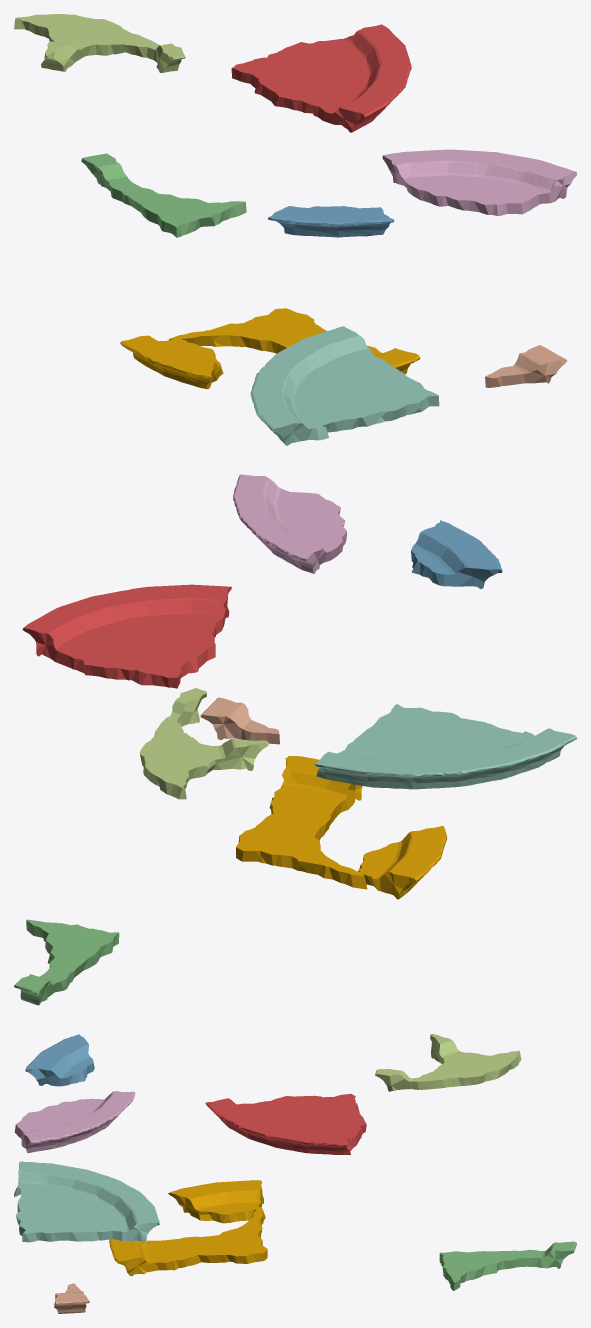
Rendered from fractured_75_8pcs_transformed.glb.
3 renders of one model, top to bottom at view 1: azimuth 30°, elevation 25°; view 2: azimuth 150°, elevation 25°; view 3: azimuth 270°, elevation 25°, orthographic. The views are drawn at different scales.
Visible parts, largest first — view 1: piece_4.obj, piece_1.obj, piece_6.obj, piece_0.obj, piece_5.obj, piece_3.obj, piece_2.obj, piece_7.obj; view 2: piece_1.obj, piece_4.obj, piece_0.obj, piece_6.obj, piece_5.obj, piece_3.obj, piece_2.obj, piece_7.obj; view 3: piece_4.obj, piece_0.obj, piece_1.obj, piece_6.obj, piece_5.obj, piece_3.obj, piece_2.obj, piece_7.obj.
Part boxes in pixels (bbox=[...]): piece_4.obj: bbox=[250, 326, 439, 445]; piece_1.obj: bbox=[231, 24, 411, 132]; piece_6.obj: bbox=[382, 149, 576, 215]; piece_0.obj: bbox=[120, 308, 420, 389]; piece_5.obj: bbox=[14, 14, 185, 72]; piece_3.obj: bbox=[81, 153, 246, 237]; piece_2.obj: bbox=[268, 206, 394, 237]; piece_7.obj: bbox=[485, 345, 567, 387]; piece_1.obj: bbox=[22, 584, 231, 688]; piece_4.obj: bbox=[314, 704, 576, 789]; piece_0.obj: bbox=[236, 755, 447, 899]; piece_6.obj: bbox=[233, 474, 347, 573]; piece_5.obj: bbox=[139, 688, 268, 799]; piece_3.obj: bbox=[14, 919, 119, 1005]; piece_2.obj: bbox=[411, 520, 502, 589]; piece_7.obj: bbox=[200, 697, 279, 744]; piece_4.obj: bbox=[14, 1161, 159, 1243]; piece_0.obj: bbox=[109, 1180, 267, 1276]; piece_1.obj: bbox=[205, 1093, 366, 1154]; piece_6.obj: bbox=[14, 1091, 135, 1153]; piece_5.obj: bbox=[375, 1034, 521, 1091]; piece_3.obj: bbox=[439, 1241, 576, 1290]; piece_2.obj: bbox=[25, 1034, 94, 1086]; piece_7.obj: bbox=[54, 1283, 89, 1313].
Size of the model in its own units: 1 by 0.6672 by 1.93.
